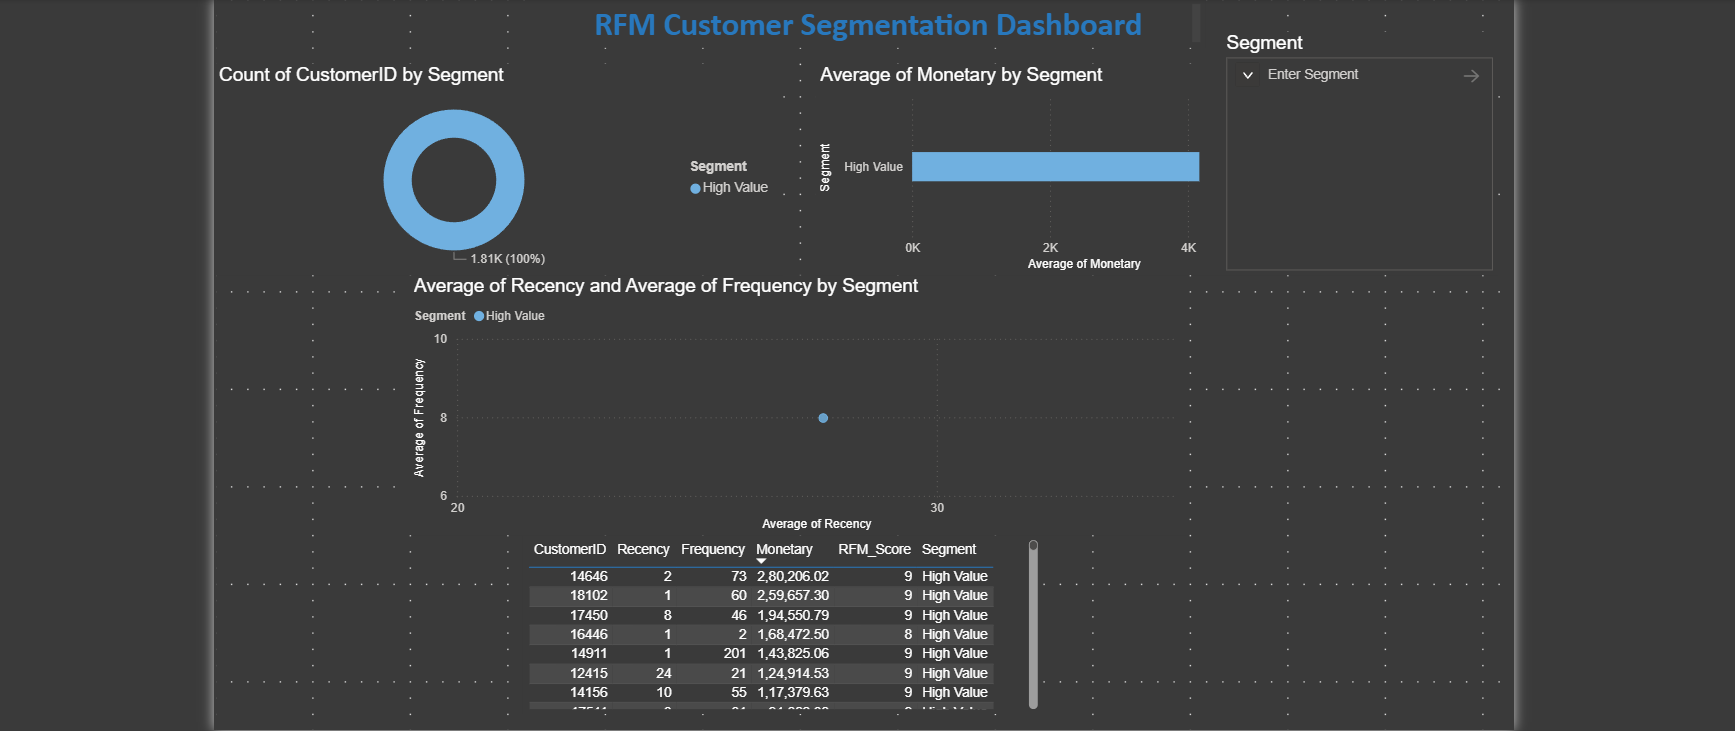

This screenshot's page, from the dashboard's own definition file:
{"tool":"powerbi","page":{"name":"Page 1","canvas":[1280,720],"ordinal":0},"visuals":[{"type":"donutChart","fields":{"Category":["rfm_segments.Segment"],"Y":["CountNonNull(rfm_segments.CustomerID)"]},"box":[0,64,560,208],"z":0},{"type":"clusteredBarChart","fields":{"Category":["rfm_segments.Segment"],"Y":["Avg(rfm_segments.Monetary)"]},"box":[592,64,448,208],"z":1000},{"type":"scatterChart","fields":{"X":["Avg(rfm_segments.Recency)"],"Y":["Avg(rfm_segments.Frequency)"],"Series":["rfm_segments.Segment"]},"box":[192,272,768,256],"z":2000},{"type":"tableEx","fields":{"Values":["rfm_segments.CustomerID","rfm_segments.Recency","rfm_segments.Frequency","rfm_segments.Monetary","rfm_segments.RFM_Score","rfm_segments.Segment"]},"box":[304,528,512,176],"z":3000},{"type":"textSlicer","fields":{"Values":["rfm_segments.Segment"]},"box":[992,32,272,240],"z":4000},{"type":"textbox","box":[320,0,656,48],"z":4001}]}

Visuals, with their boxes in screenshot pixels (x1, y1, x2, y2):
donutChart - rfm_segments.Segment x CountNonNull(rfm_segments.CustomerID): locate(470, 78, 1031, 286)
clusteredBarChart - rfm_segments.Segment x Avg(rfm_segments.Monetary): locate(1063, 78, 1513, 286)
scatterChart - Avg(rfm_segments.Recency) x Avg(rfm_segments.Frequency): locate(662, 286, 1432, 543)
tableEx - rfm_segments.CustomerID x rfm_segments.Recency: locate(775, 543, 1288, 719)
textSlicer - rfm_segments.Segment: locate(1464, 46, 1734, 286)
textbox: locate(791, 14, 1448, 62)
